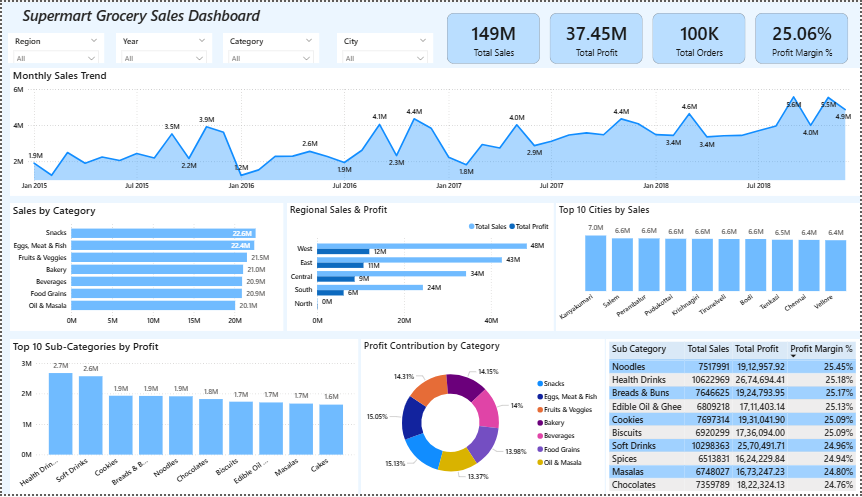

The page's visual inventory and layout, read from the dashboard file:
{"tool":"powerbi","page":{"name":"Supermart Dashboard","canvas":[1570,900],"ordinal":0},"visuals":[{"type":"textbox","box":[0,0,508.5,65.9],"z":0},{"type":"cardVisual","fields":{"Data":["Sales_Data.Total Sales","Sales_Data.Total Profit","Sales_Data.Total Orders","Sales_Data.Profit Margin %"]},"box":[793.9,0,775.6,133.5],"z":1000},{"type":"lineChart","title":"Monthly Sales Trend","fields":{"Y":["Sales_Data.Total Sales"],"Category":["DateTable.Month-Year"]},"box":[14.6,120.7,1554.9,234.1],"z":2000},{"type":"clusteredBarChart","title":"Sales by Category","fields":{"Category":["Sales_Data.Category"],"Y":["Sales_Data.Total Sales"]},"box":[14.6,367.7,500,234.1],"z":3000},{"type":"clusteredBarChart","title":"Regional Sales & Profit","fields":{"Category":["Sales_Data.Region"],"Y":["Sales_Data.Total Sales","Sales_Data.Total Profit"]},"box":[521.3,367.7,488,234.1],"z":4000},{"type":"tableEx","fields":{"Values":["Sales_Data.Sub Category","Sales_Data.Total Sales","Sales_Data.Total Profit","Sales_Data.Profit Margin %"]},"box":[1104.9,616.5,464.6,283.5],"z":5000},{"type":"clusteredColumnChart","title":"Top 10 Sub-Categories by Profit","fields":{"Category":["Sales_Data.Sub Category"],"Y":["Sales_Data.Total Profit"]},"box":[14.6,616.5,637,283.5],"z":6000},{"type":"donutChart","title":"Profit Contribution by Category","fields":{"Category":["Sales_Data.Category"],"Y":["Sales_Data.Total Profit"]},"box":[656.7,616.5,446,283.5],"z":7000},{"type":"clusteredColumnChart","title":"Top 10 Cities by Sales","fields":{"Category":["Sales_Data.City"],"Y":["Sales_Data.Total Sales"]},"box":[1013.4,367.7,556.1,234.1],"z":8000},{"type":"slicer","fields":{"Values":["Sales_Data.Region"]},"box":[11,56.7,175.6,54.9],"z":9000},{"type":"slicer","fields":{"Values":["DateTable.Year"]},"box":[208.5,56.7,175.6,54.9],"z":10000},{"type":"slicer","fields":{"Values":["Sales_Data.Category"]},"box":[404.3,56.7,175.6,54.9],"z":11000},{"type":"slicer","fields":{"Values":["Sales_Data.City"]},"box":[612.8,56.7,175.6,54.9],"z":12000}]}

Visuals, with their boxes in screenshot pixels (x1, y1, x2, y2), scaled from the page's 1570x900 canvas onto the 862x497 screenshot:
textbox: 0:0:279:36
cardVisual - Sales_Data.Total Sales x Sales_Data.Total Profit: 436:0:861:74
"Monthly Sales Trend" lineChart: 8:67:861:196
"Sales by Category" clusteredBarChart: 8:203:283:332
"Regional Sales & Profit" clusteredBarChart: 286:203:554:332
tableEx - Sales_Data.Sub Category x Sales_Data.Total Sales: 607:340:861:496
"Top 10 Sub-Categories by Profit" clusteredColumnChart: 8:340:358:496
"Profit Contribution by Category" donutChart: 361:340:605:496
"Top 10 Cities by Sales" clusteredColumnChart: 556:203:861:332
slicer - Sales_Data.Region: 6:31:102:62
slicer - DateTable.Year: 114:31:211:62
slicer - Sales_Data.Category: 222:31:318:62
slicer - Sales_Data.City: 336:31:433:62
